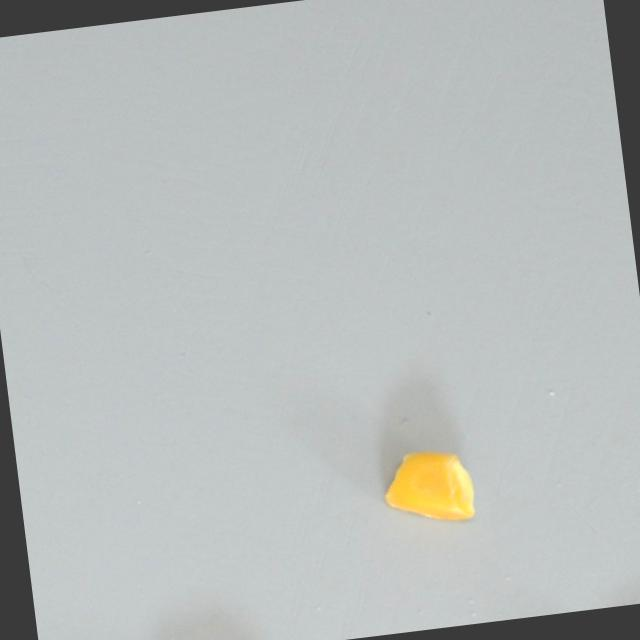pelicula: (363, 435, 495, 534)
